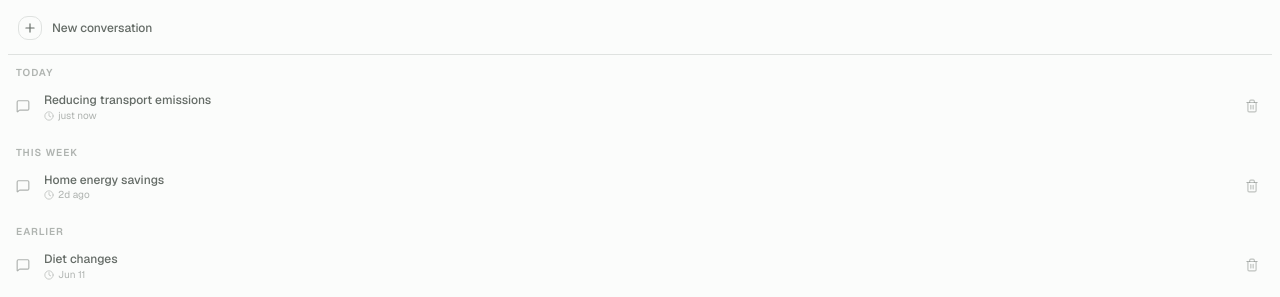
Test: ConversationsPanel › shows delete confirmation when trash icon is clicked
Expected: the text "Reducing transport emissions" is shown, [44,92,211,108]
// Click delete button (trash icon button)
What coordinates should you click on to do the following:
click the 1st button named "delete conversation"
I would click on:
 (1252, 106)
Its box is [1240,94,1264,118].
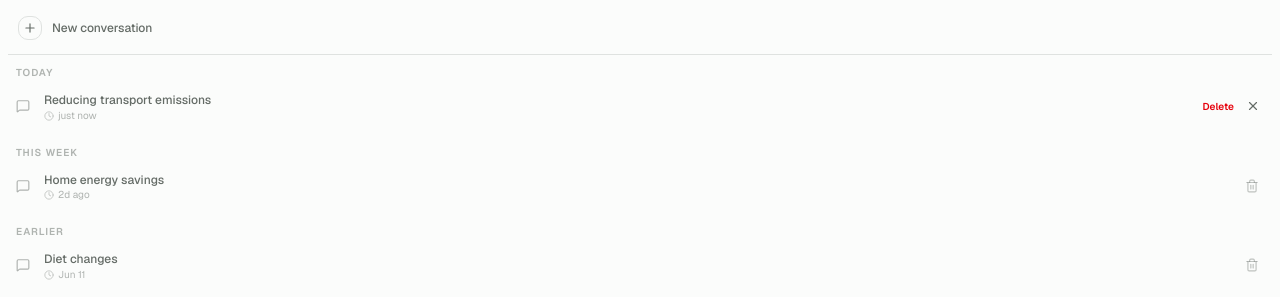
Result: the button "Delete" is shown at [1196,95,1240,118]
